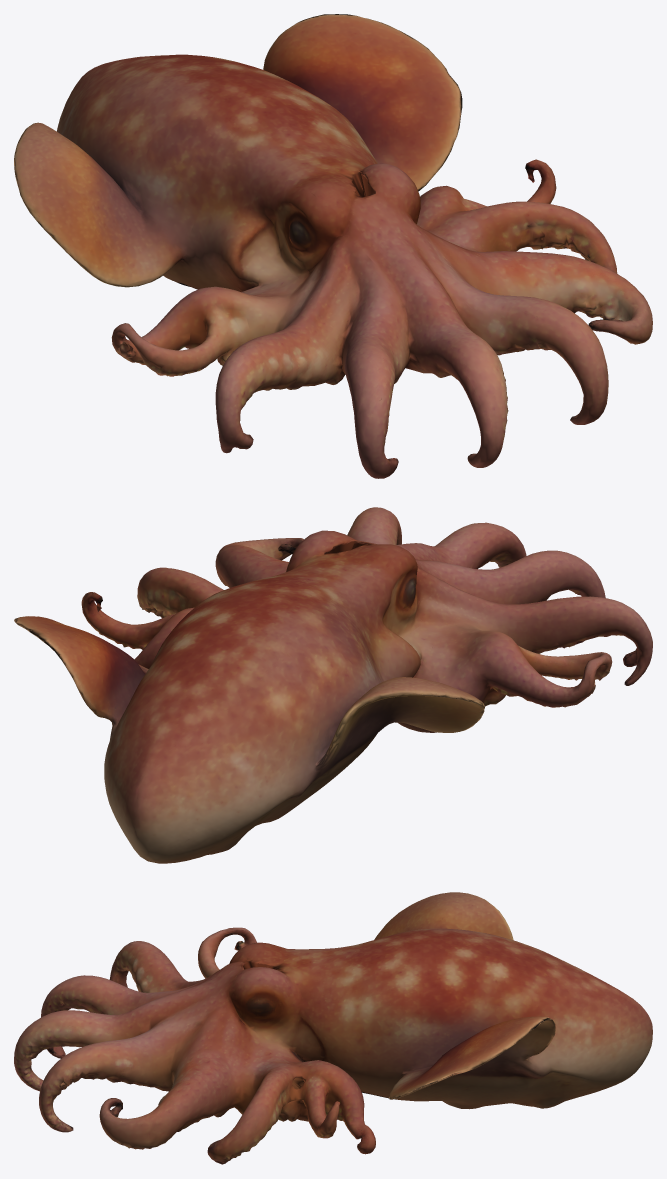
3 renders of one model, top to bottom at view 1: azimuth 30°, elevation 25°; view 2: azimuth 150°, elevation 25°; view 3: azimuth 270°, elevation 25°, orthographic. The views are drawn at different scales.
Parts seen in each view (by area): view 1: geometry_0; view 2: geometry_0; view 3: geometry_0.
Boxes of the visible parts, <box> form: geometry_0: <box>14,14,652,478</box>; geometry_0: <box>14,507,652,863</box>; geometry_0: <box>14,892,652,1164</box>.
Size of the model in its own units: 0.0757 by 0.031 by 0.11.
1 material, 1 textured.
